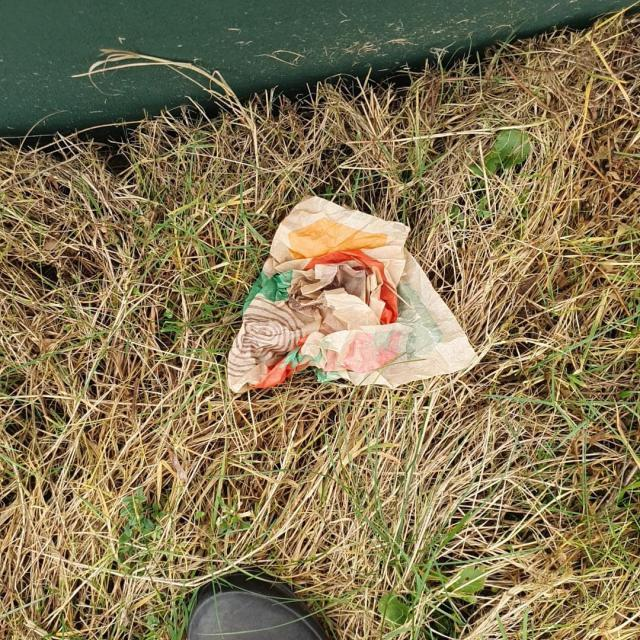Paper: (223, 194, 482, 398)
